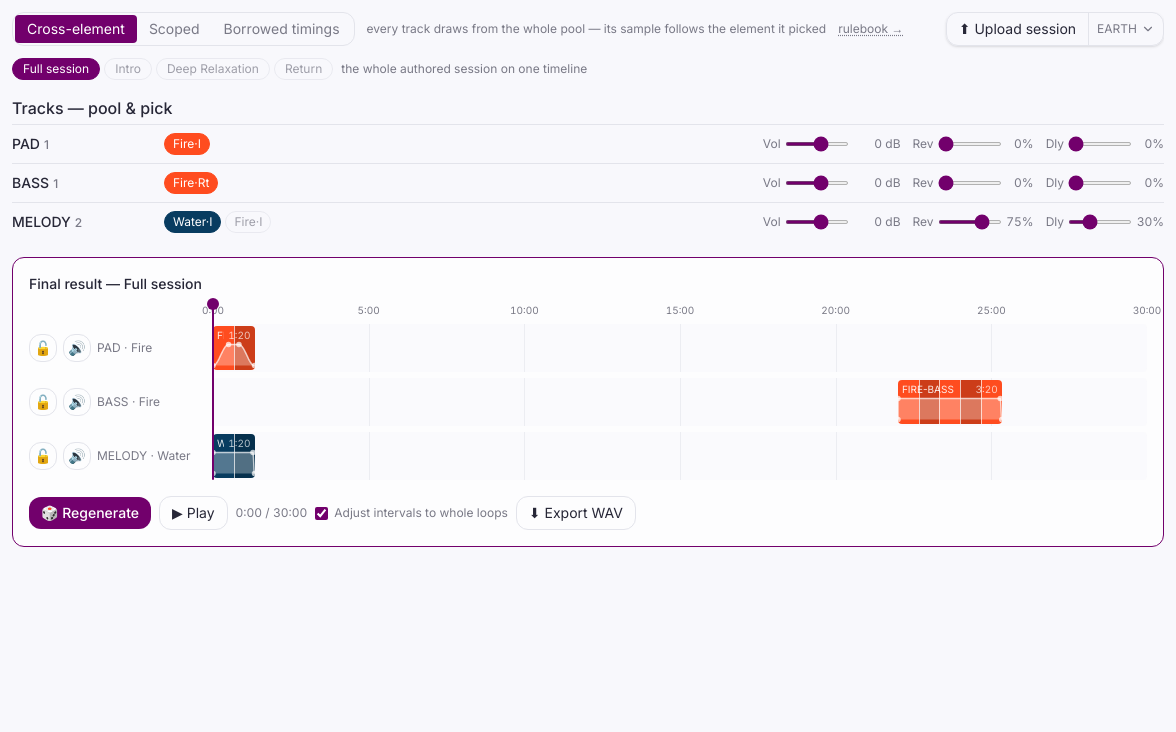
Test: RemixView › toggles the transport button between play and pause
The image size is (1176, 732).
Click the button "▶ Play" at x=193, y=513, box [159,496,228,530]
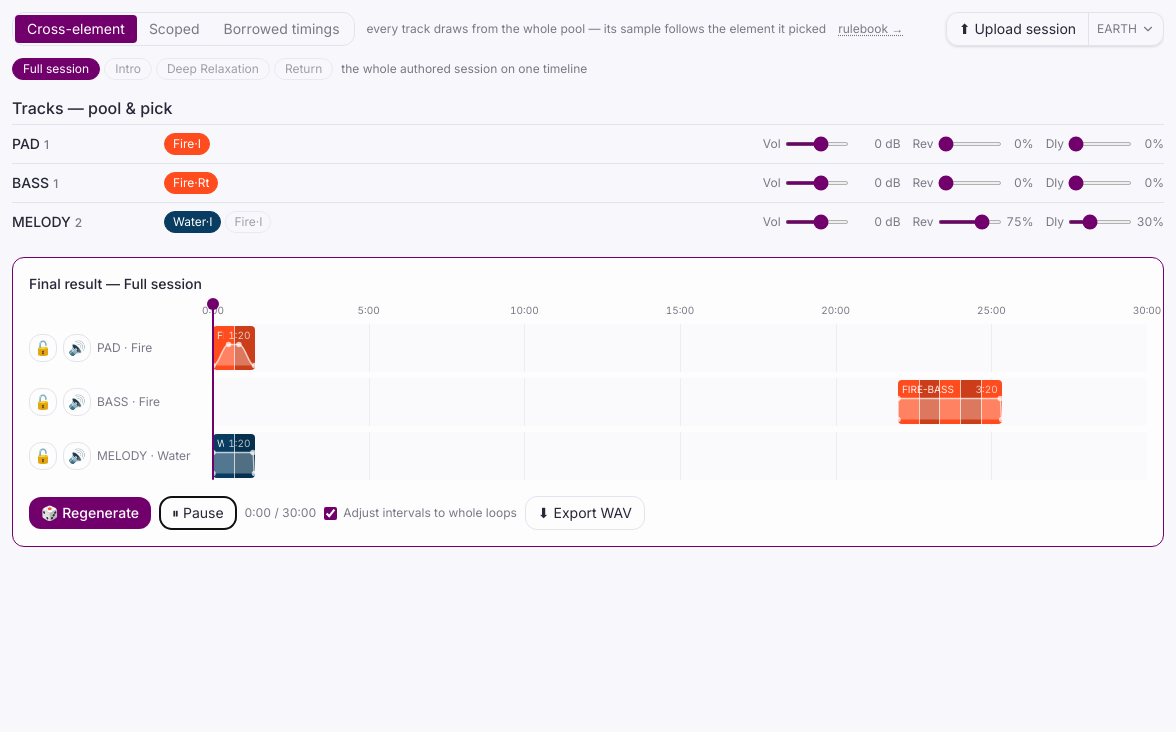
Check: the button "⏸ Pause" is shown
Click the button "⏸ Pause" at x=198, y=513, box [159,496,237,530]
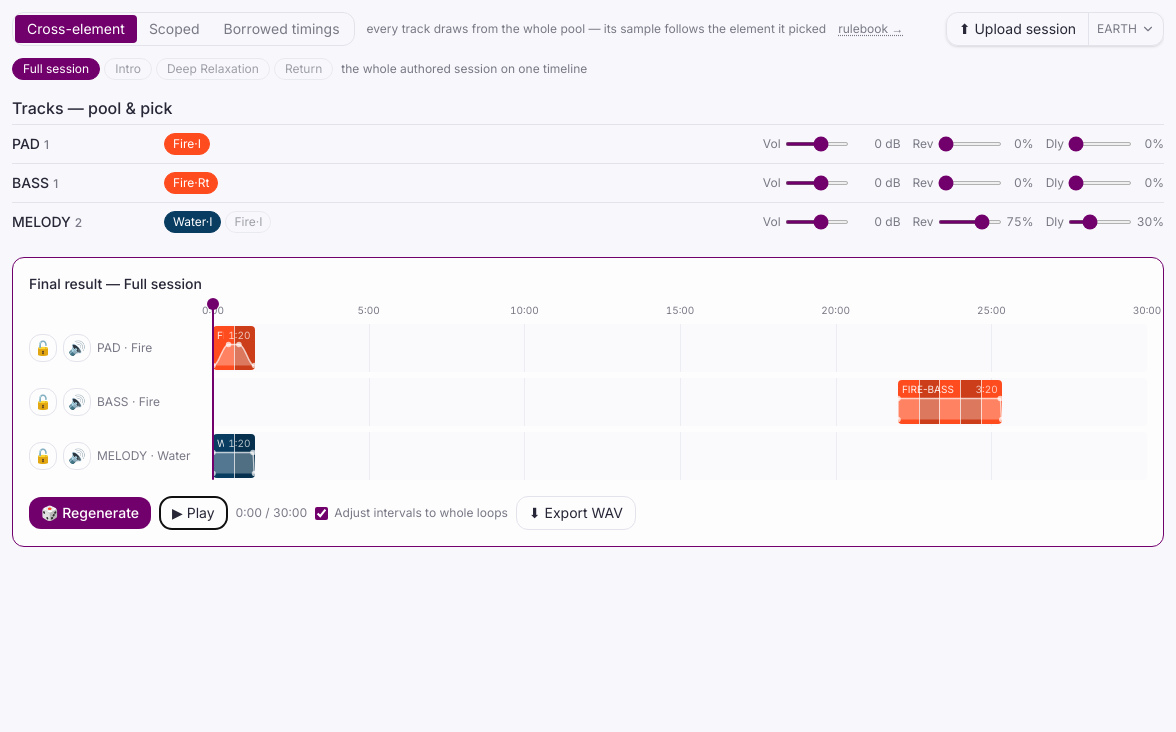
Check: the button "▶ Play" is shown, box [159,496,228,530]
